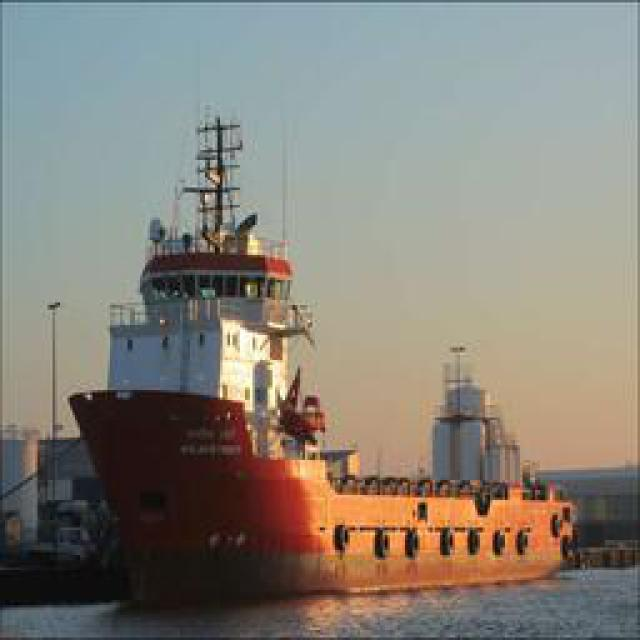Ship: (60, 136, 584, 603)
